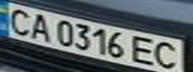0: (51, 17, 75, 47)
1: (87, 26, 109, 55)
3: (69, 21, 93, 52)
6: (106, 29, 130, 60)
A: (24, 11, 54, 43)
C: (151, 39, 187, 71), (3, 6, 36, 37)
E: (127, 34, 160, 66)
